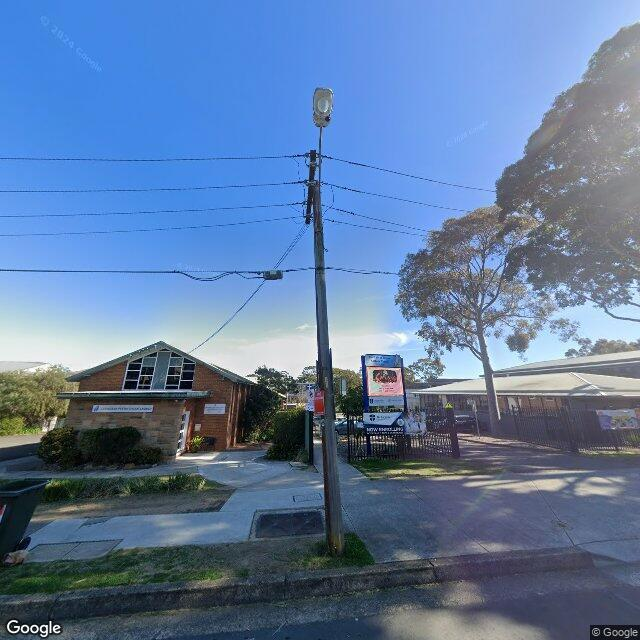crossarm: (304, 148, 318, 224)
streetlight: (312, 87, 334, 230)
timber-pole: (312, 182, 344, 553)
